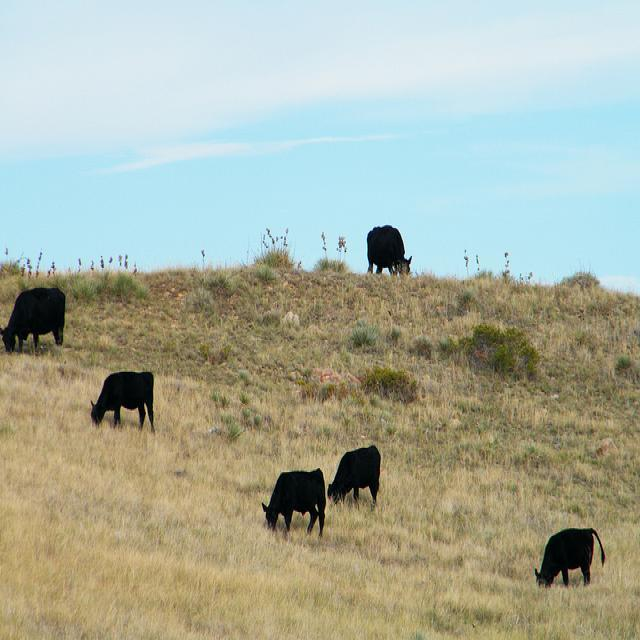cow: (261, 467, 326, 539), (0, 284, 65, 352), (533, 527, 605, 585), (89, 367, 152, 429), (326, 443, 379, 508), (365, 224, 411, 277)
